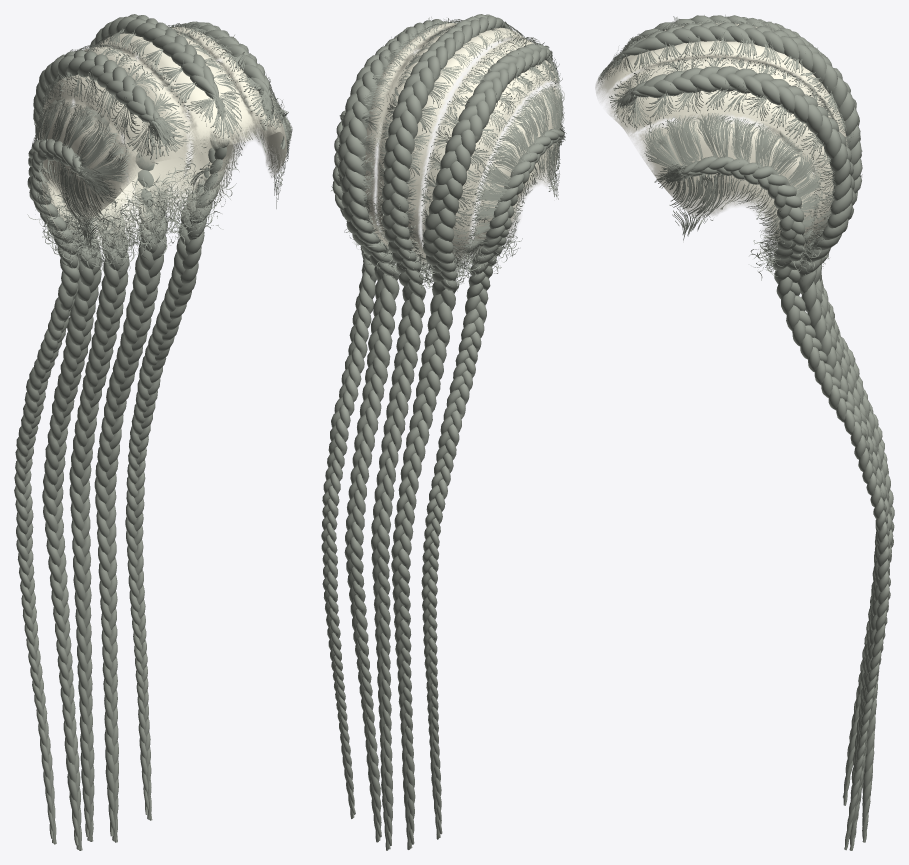
Rendered from Hair-braid.glb.
The picture shows the model from 3 angles, left to right: view 1: azimuth 30°, elevation 25°; view 2: azimuth 150°, elevation 25°; view 3: azimuth 270°, elevation 25°; orthographic projection. The views are drawn at different scales.
Visible parts, largest first — view 1: Imani Scalp_254252.Shape; view 2: Imani Scalp_254252.Shape; view 3: Imani Scalp_254252.Shape.
Boxes of the visible parts, left/top/right/bottom form: Imani Scalp_254252.Shape: left=14, top=14, right=292, bottom=850; Imani Scalp_254252.Shape: left=321, top=14, right=566, bottom=850; Imani Scalp_254252.Shape: left=595, top=15, right=894, bottom=850.
Bounding box in the file's own units: 0.1724 × 0.6565 × 0.2181.
Materials: 2 (1 with a texture image).
